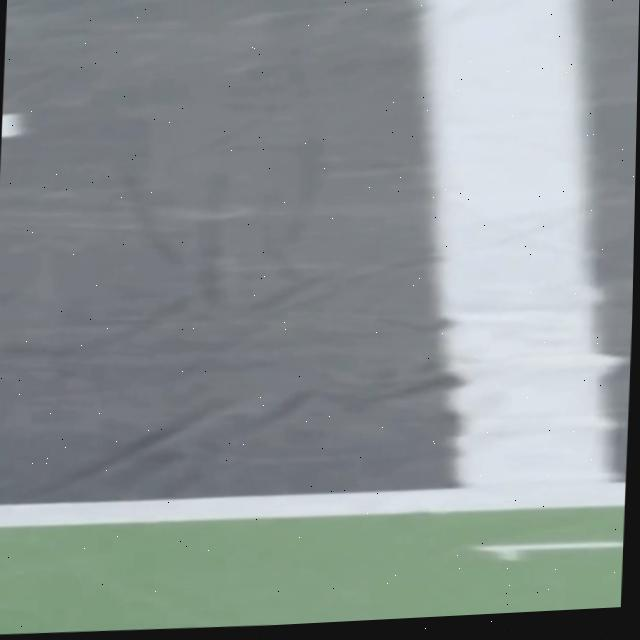center: (0, 113, 23, 137)
right: (0, 482, 625, 526)
